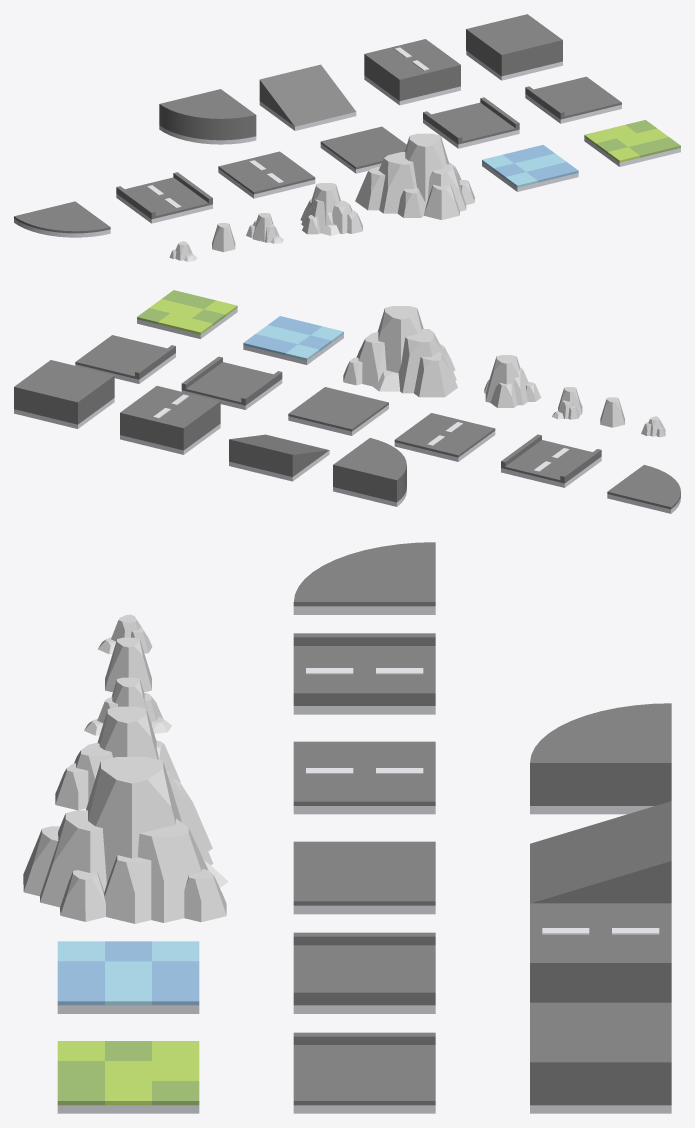
The picture shows the model from 3 angles, top to bottom: view 1: azimuth 30°, elevation 25°; view 2: azimuth 150°, elevation 25°; view 3: azimuth 270°, elevation 25°; orthographic projection. The views are drawn at different scales.
Parts seen in each view (by area): view 1: mergedBlocks; view 2: mergedBlocks; view 3: mergedBlocks.
Boxes of the visible parts, left/top/right/bottom form: mergedBlocks: left=14, top=14, right=680, bottom=261; mergedBlocks: left=14, top=290, right=680, bottom=513; mergedBlocks: left=23, top=542, right=671, bottom=1113.
Size of the model in its own units: 28 by 2.72 by 13.73.
